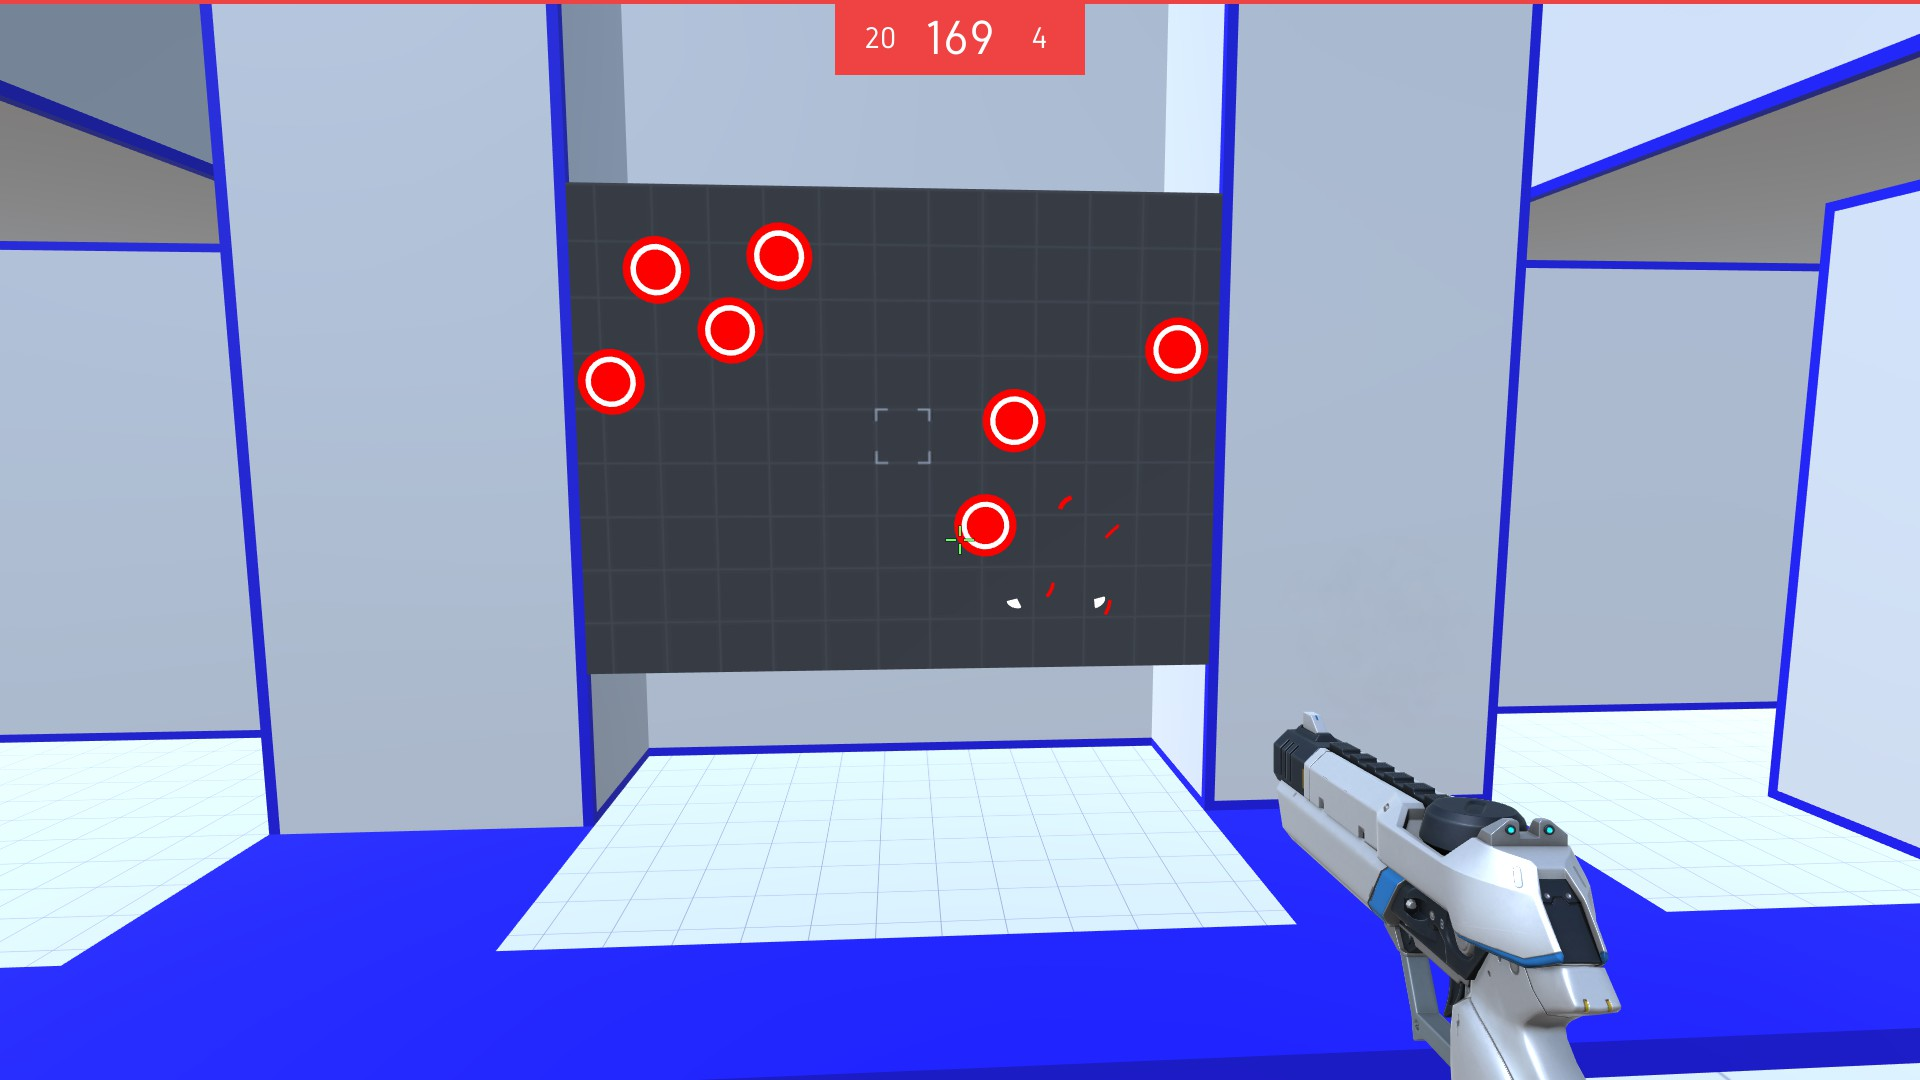target: (744, 216, 816, 294), (620, 233, 691, 311), (975, 384, 1050, 456), (694, 295, 767, 367), (576, 345, 650, 415), (1145, 313, 1212, 388), (949, 488, 1015, 560)
